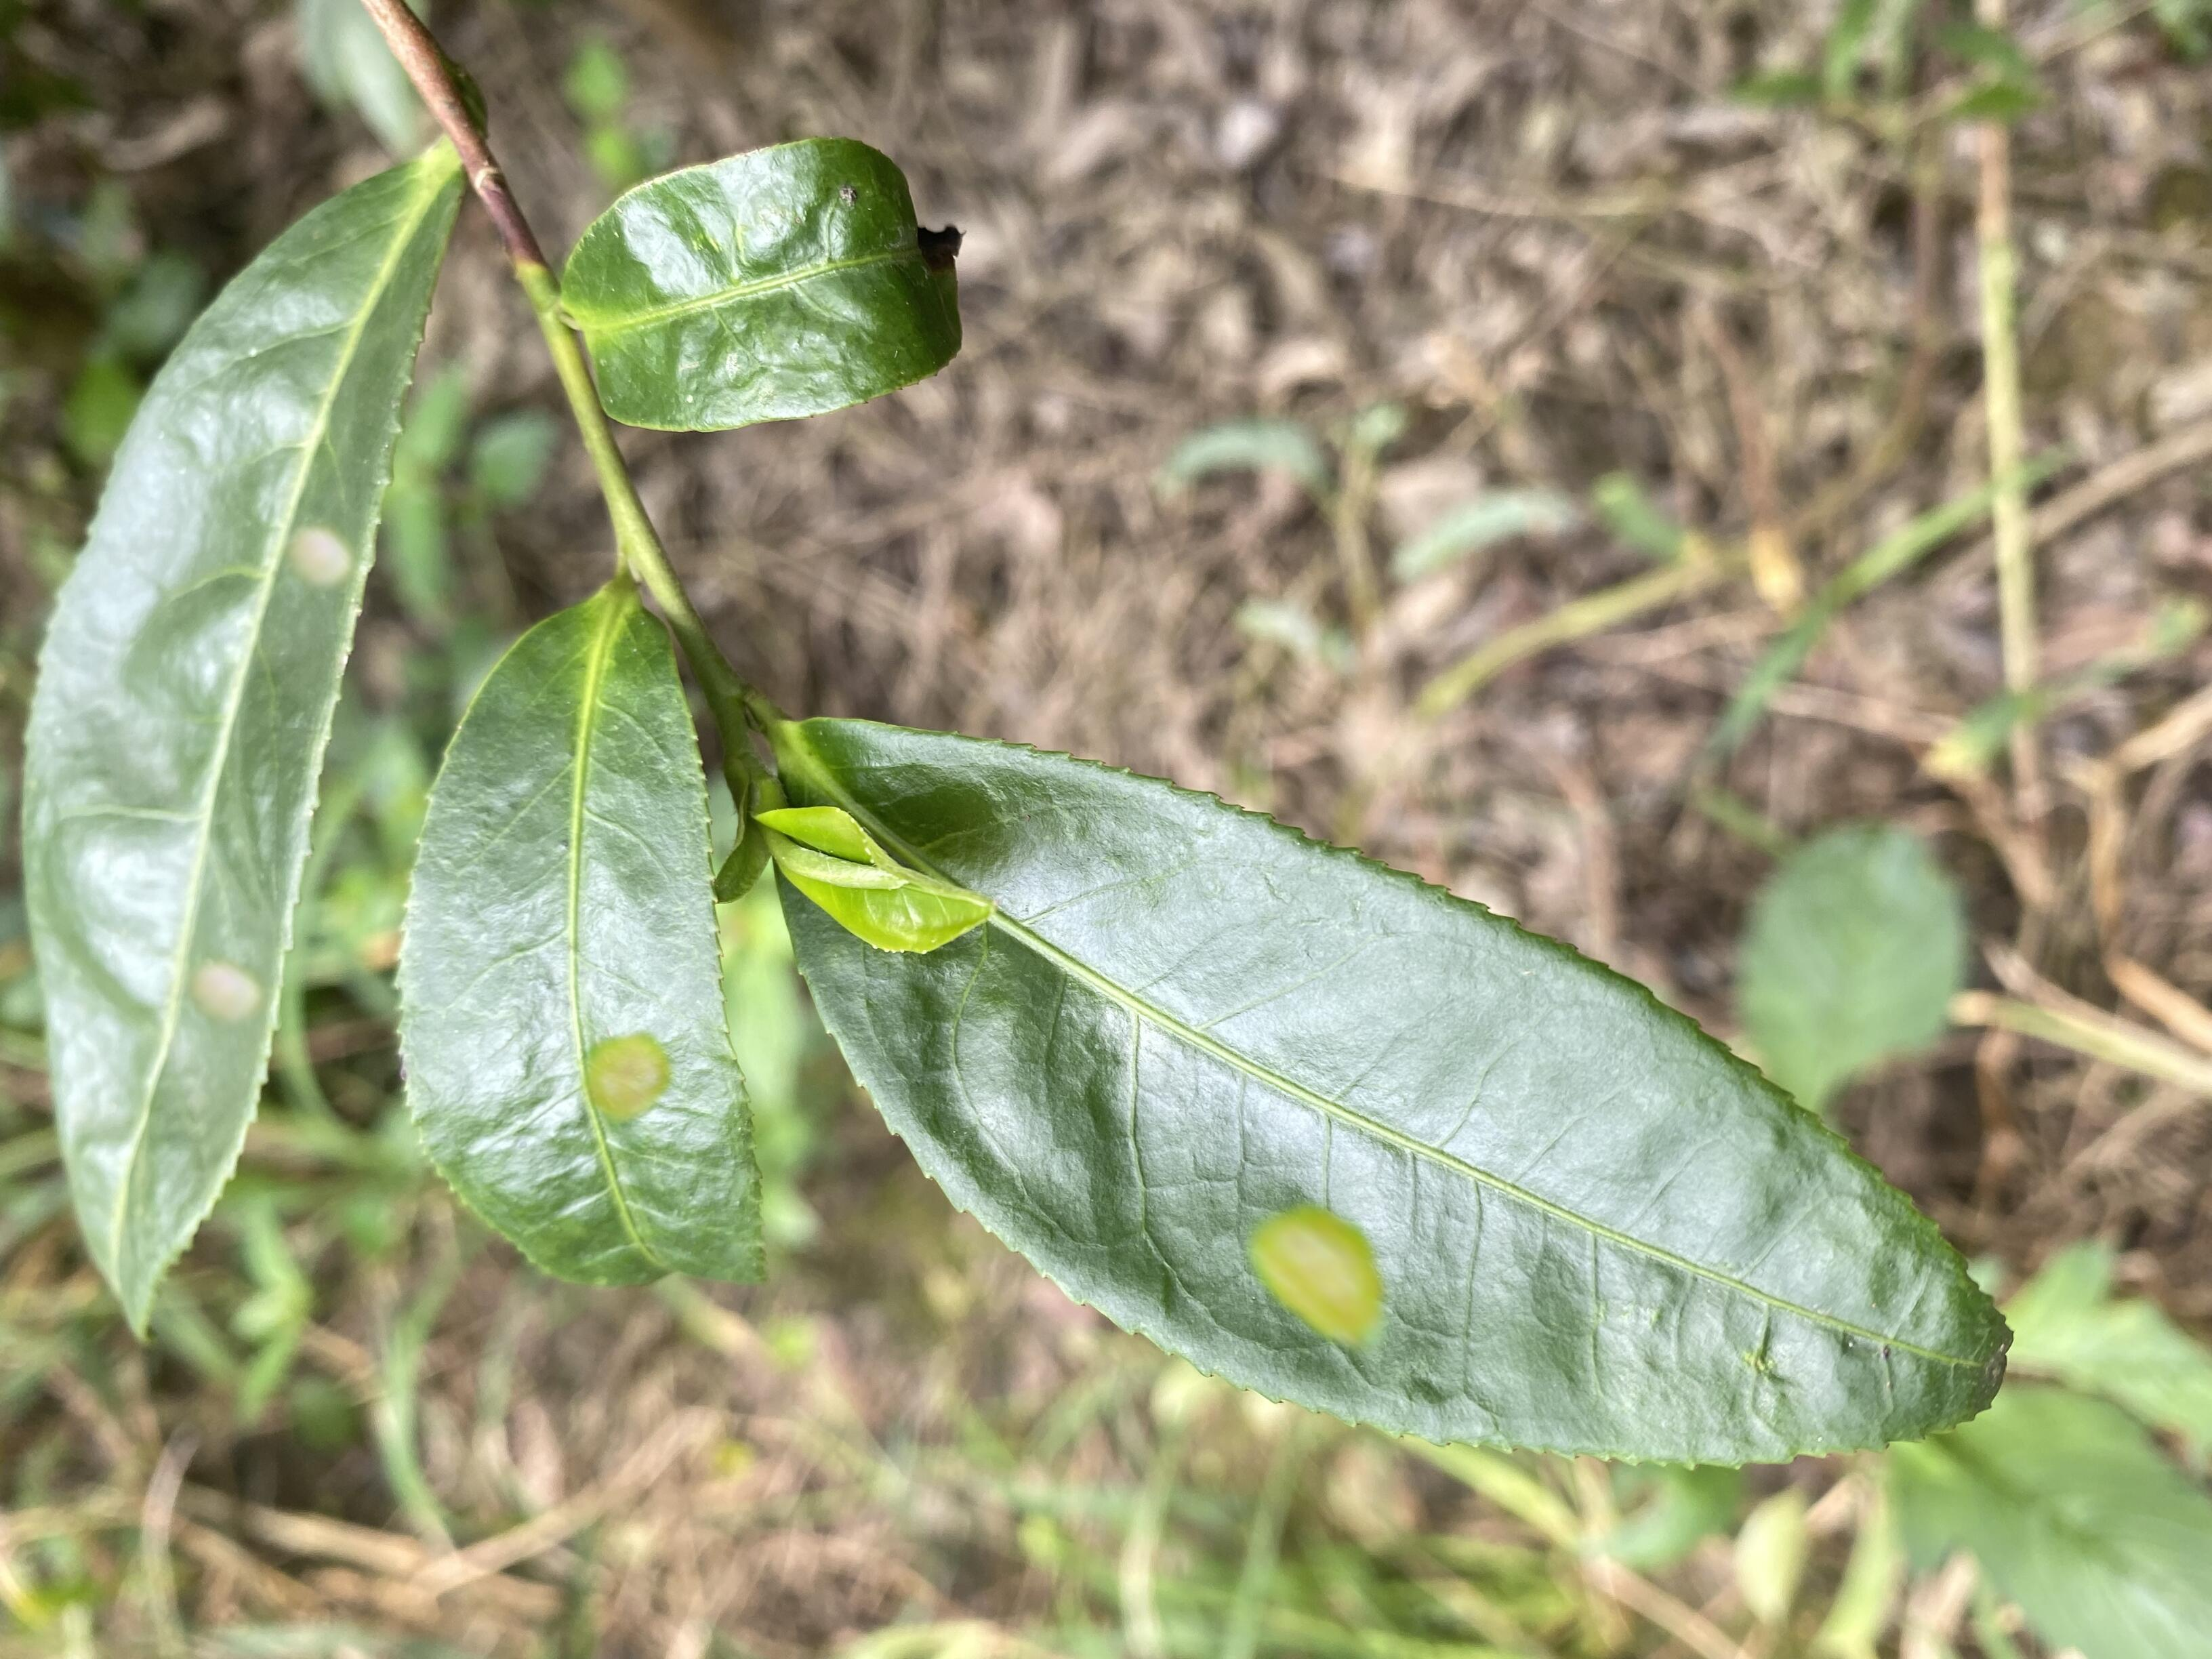chabing_high: (21, 150, 470, 1345)
chabing_low: (768, 716, 2017, 1471), (394, 584, 768, 1286)
healthy: (751, 803, 993, 960)
